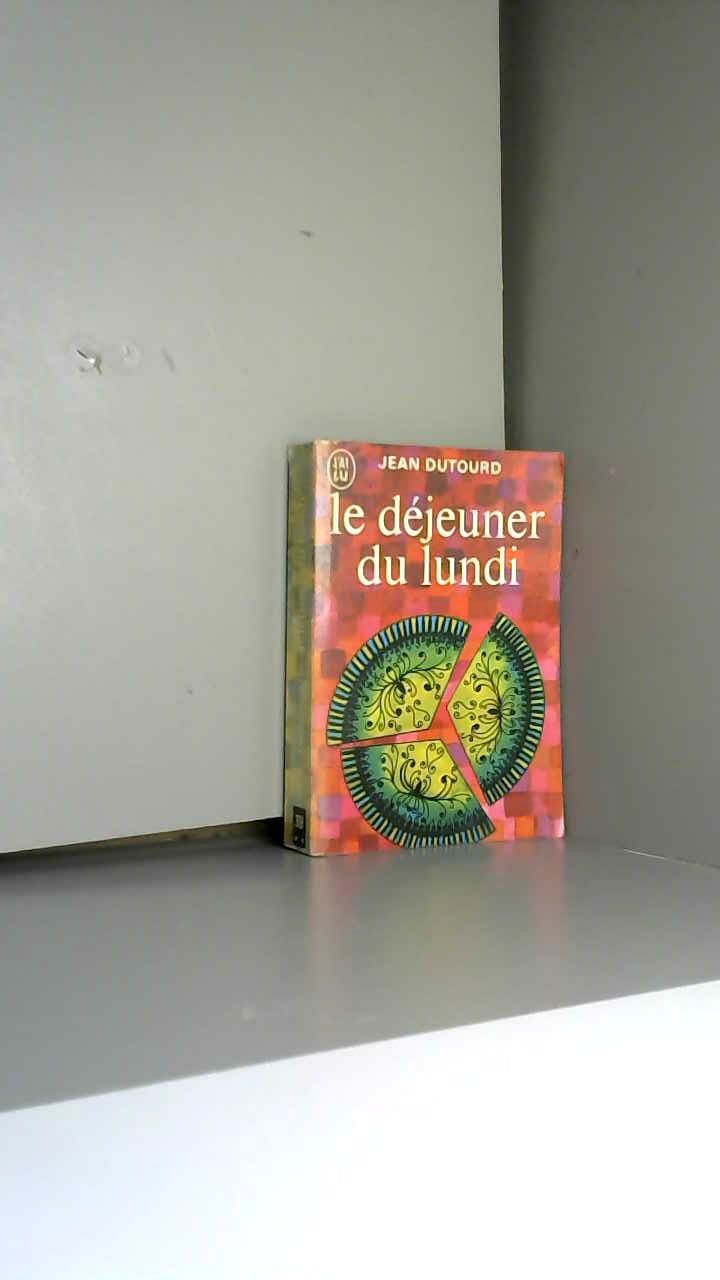book: (245, 400, 622, 905)
